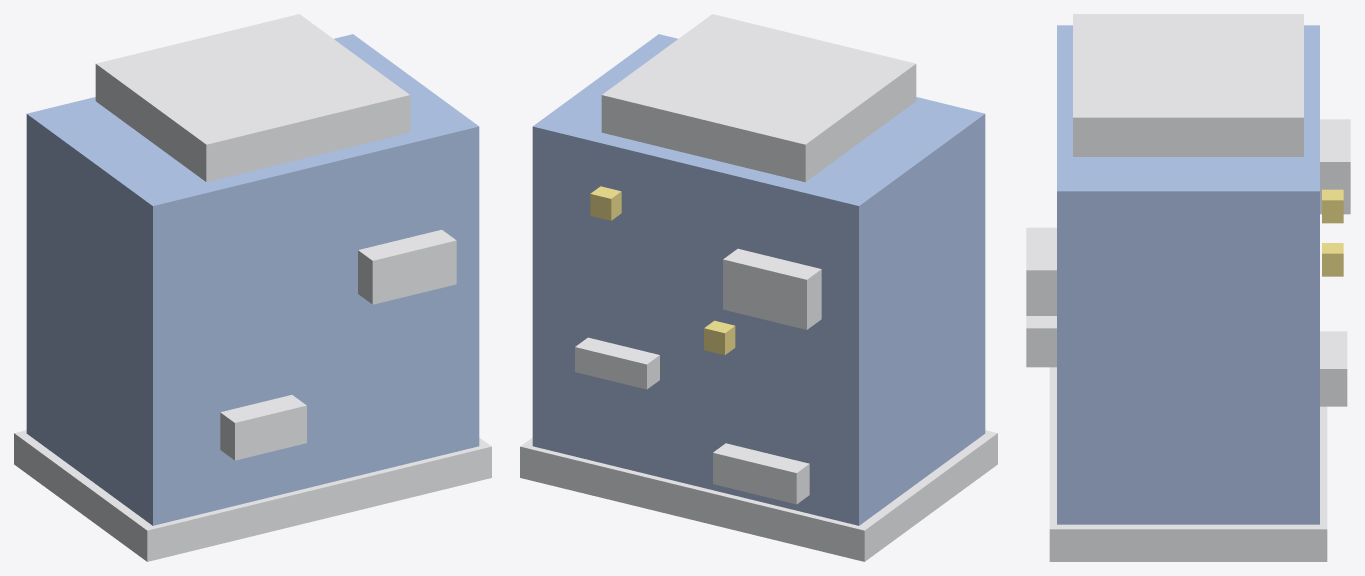
Rendered from pijama_tronco.glb.
3 renders of one model, left to right at view 1: azimuth 30°, elevation 25°; view 2: azimuth 150°, elevation 25°; view 3: azimuth 270°, elevation 25°, orthographic. The views are drawn at different scales.
Visible parts, largest first — view 1: pijama_tronco; view 2: pijama_tronco; view 3: pijama_tronco.
Boxes of the visible parts, bbox=[...] form: pijama_tronco: bbox=[14, 14, 491, 561]; pijama_tronco: bbox=[520, 14, 997, 561]; pijama_tronco: bbox=[1026, 14, 1350, 561].
Size of the model in its own units: 0.575 by 0.625 by 0.45.
